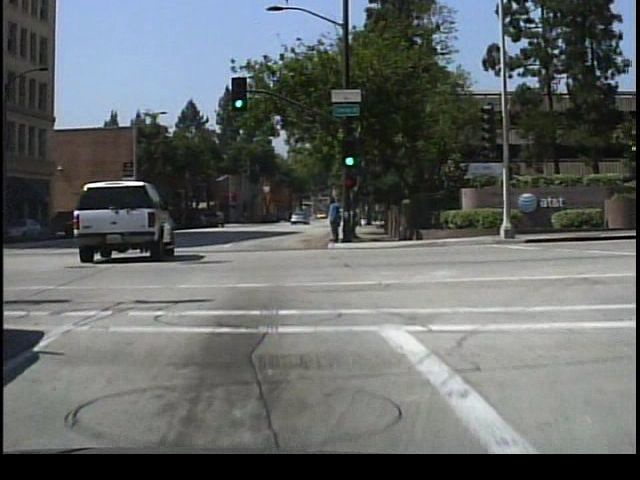person: (322, 189, 343, 244), (331, 194, 349, 241)
